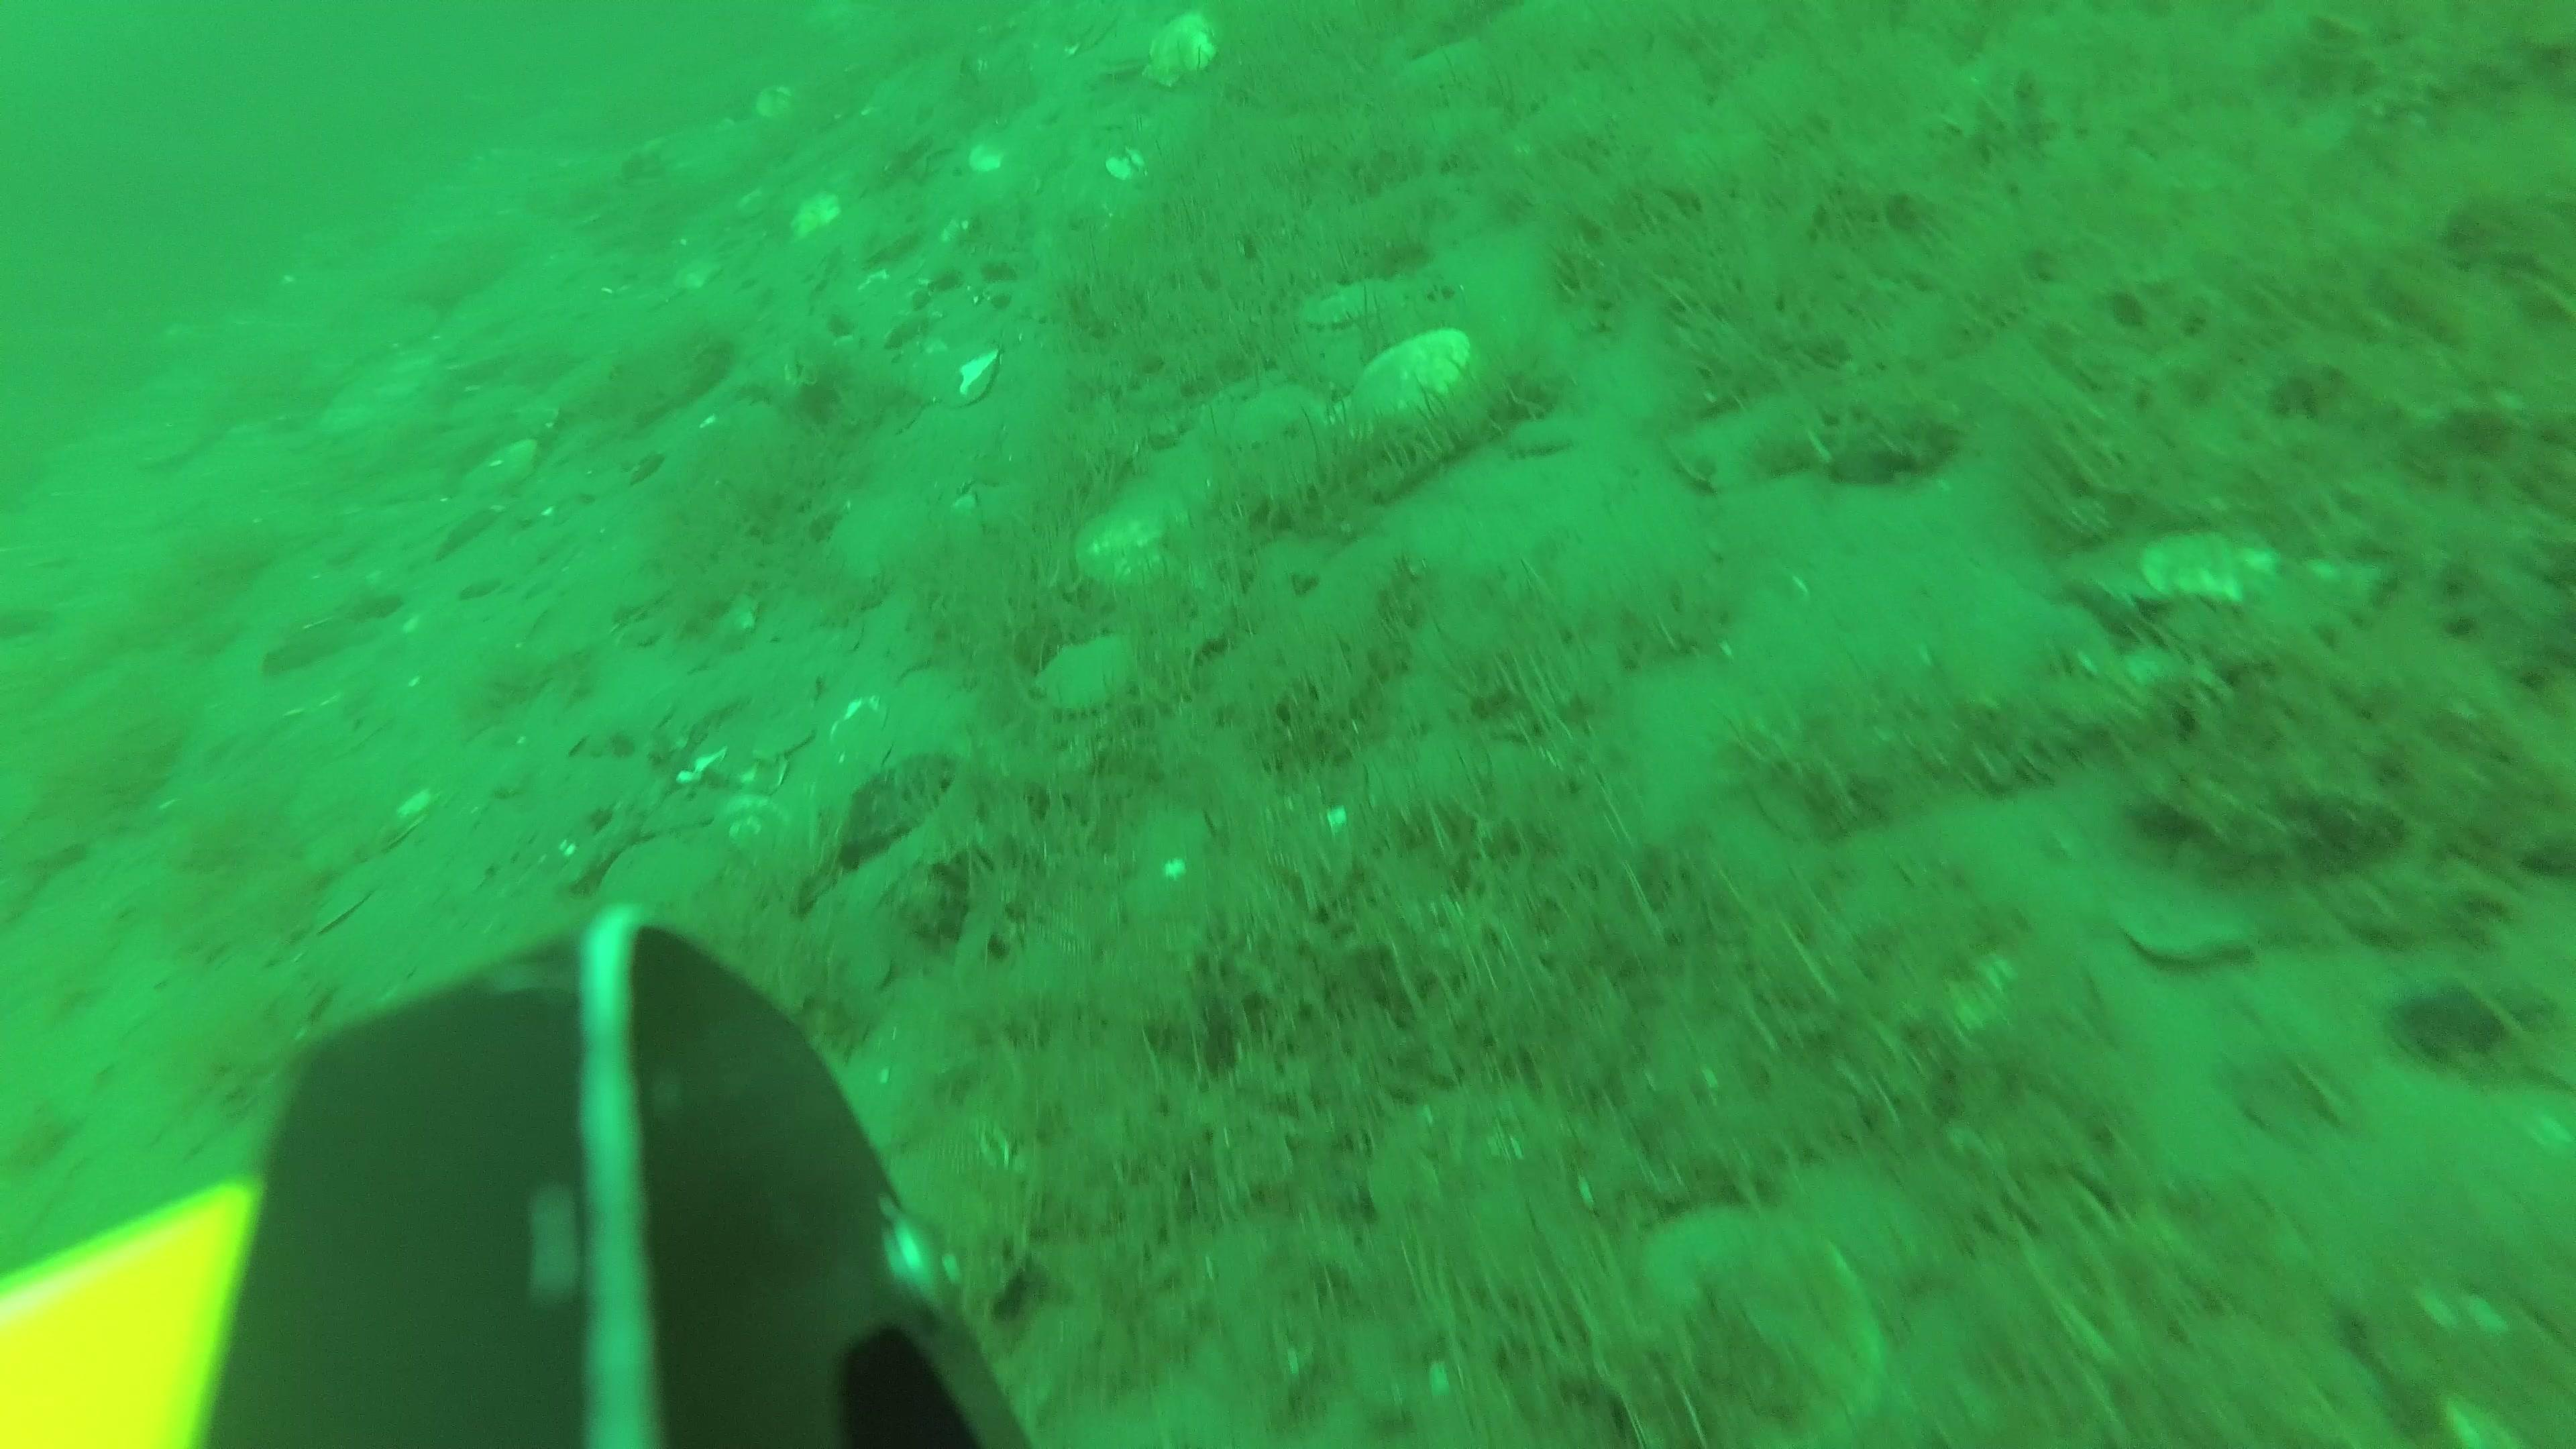scallop: (1350, 336, 1467, 426), (1076, 502, 1189, 594), (1039, 632, 1131, 708), (1148, 16, 1205, 83), (1306, 278, 1382, 326), (796, 193, 832, 235)
